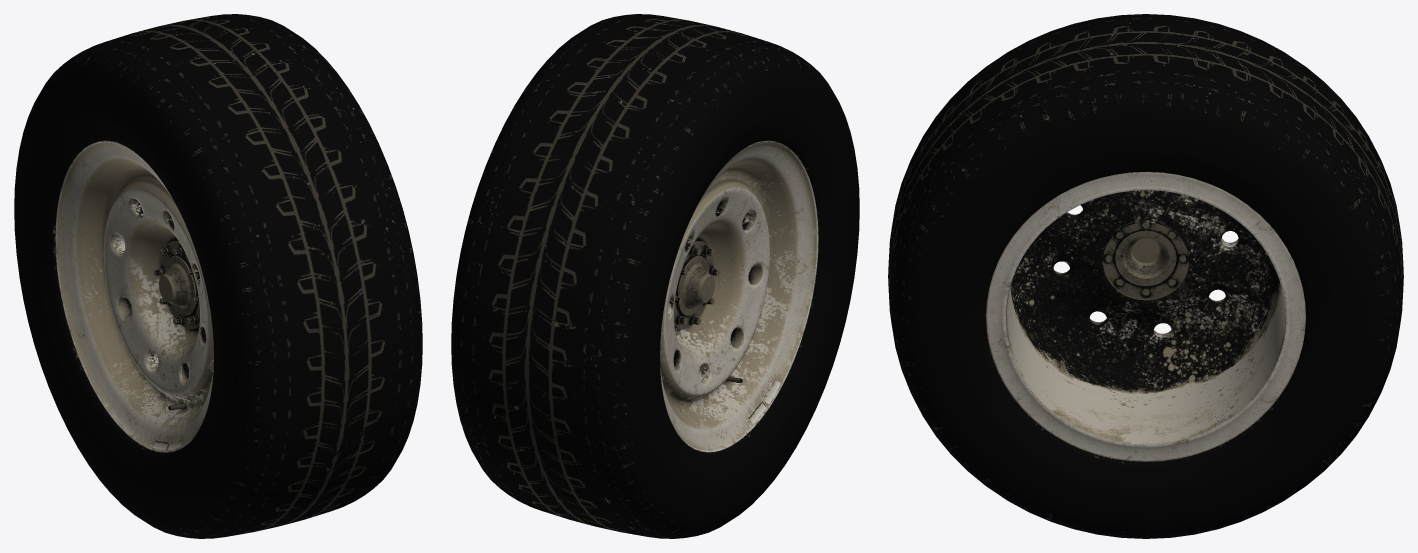
Rendered from flift_wheel.dae.
The picture shows the model from 3 angles, left to right: view 1: azimuth 30°, elevation 25°; view 2: azimuth 150°, elevation 25°; view 3: azimuth 270°, elevation 25°; orthographic projection.
Visible parts, largest first — view 1: Plane.003; view 2: Plane.003; view 3: Plane.003.
Boxes of the visible parts, x1,y1,x2,y2 form: Plane.003: [14, 14, 422, 538]; Plane.003: [451, 14, 859, 538]; Plane.003: [888, 14, 1403, 538].
Bounding box in the file's own units: 15.94 × 38.61 × 38.61.
1 material, 1 textured.
